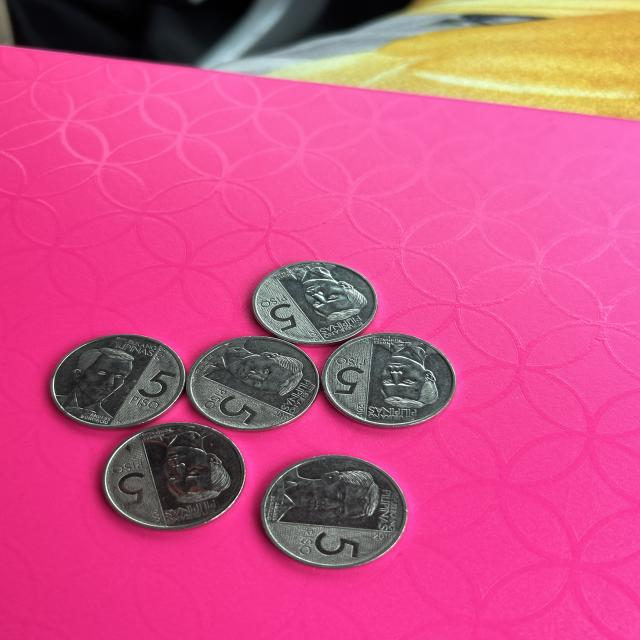5_New_Front: (293, 523, 369, 566), (200, 388, 259, 432), (108, 460, 156, 508), (256, 292, 304, 336), (132, 367, 180, 409), (328, 353, 367, 401)
